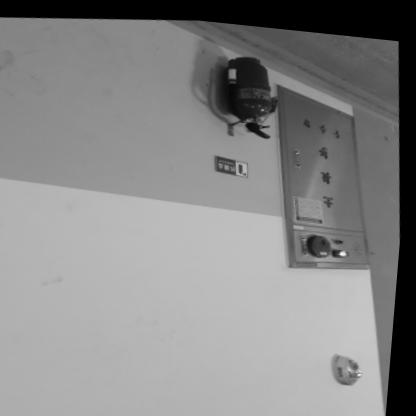FE: (222, 48, 281, 137)
